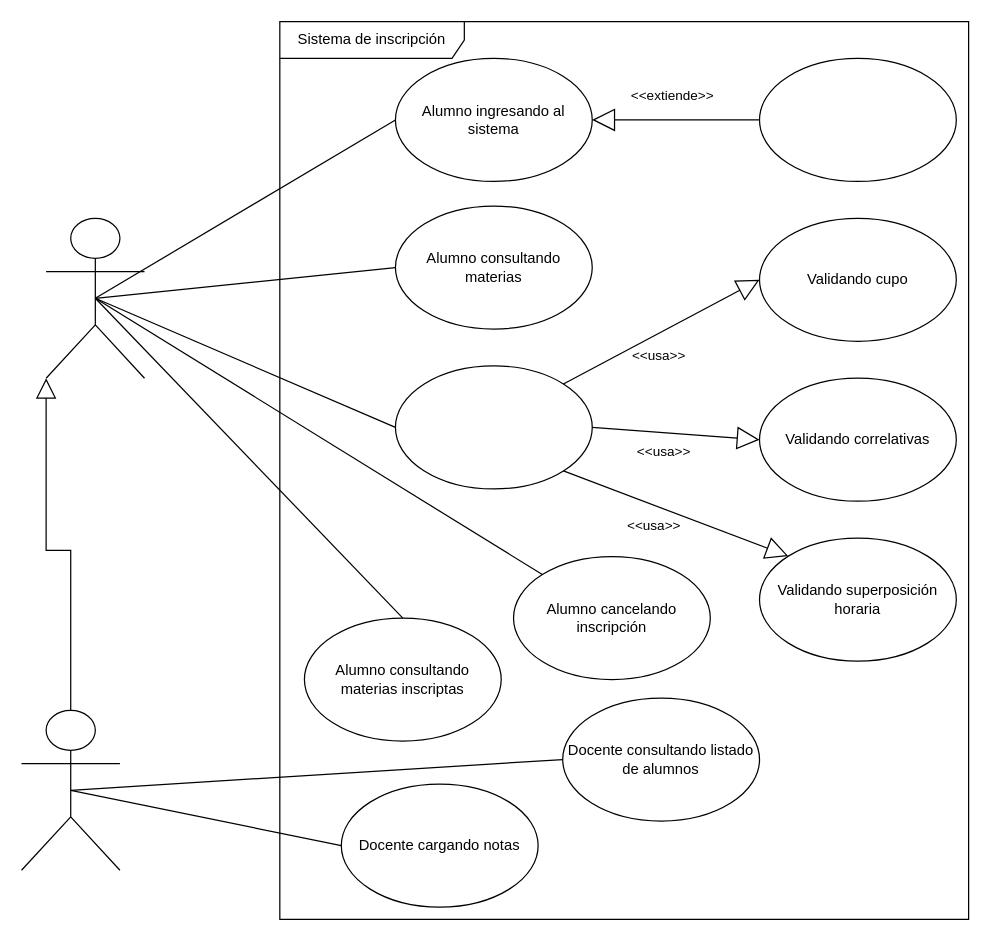
Image size: 990x941. Some labels were removed from this diagram. Each missing label, with the centre of its shape:
Alumno: the point at 95,297
Alumno Cambiando password: the point at 857,119
Alumno inscribiendo materia: the point at 493,427
Docente: the point at 70,789
